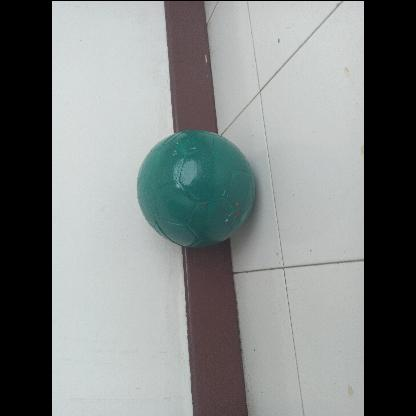green_ball: (135, 128, 257, 250)
